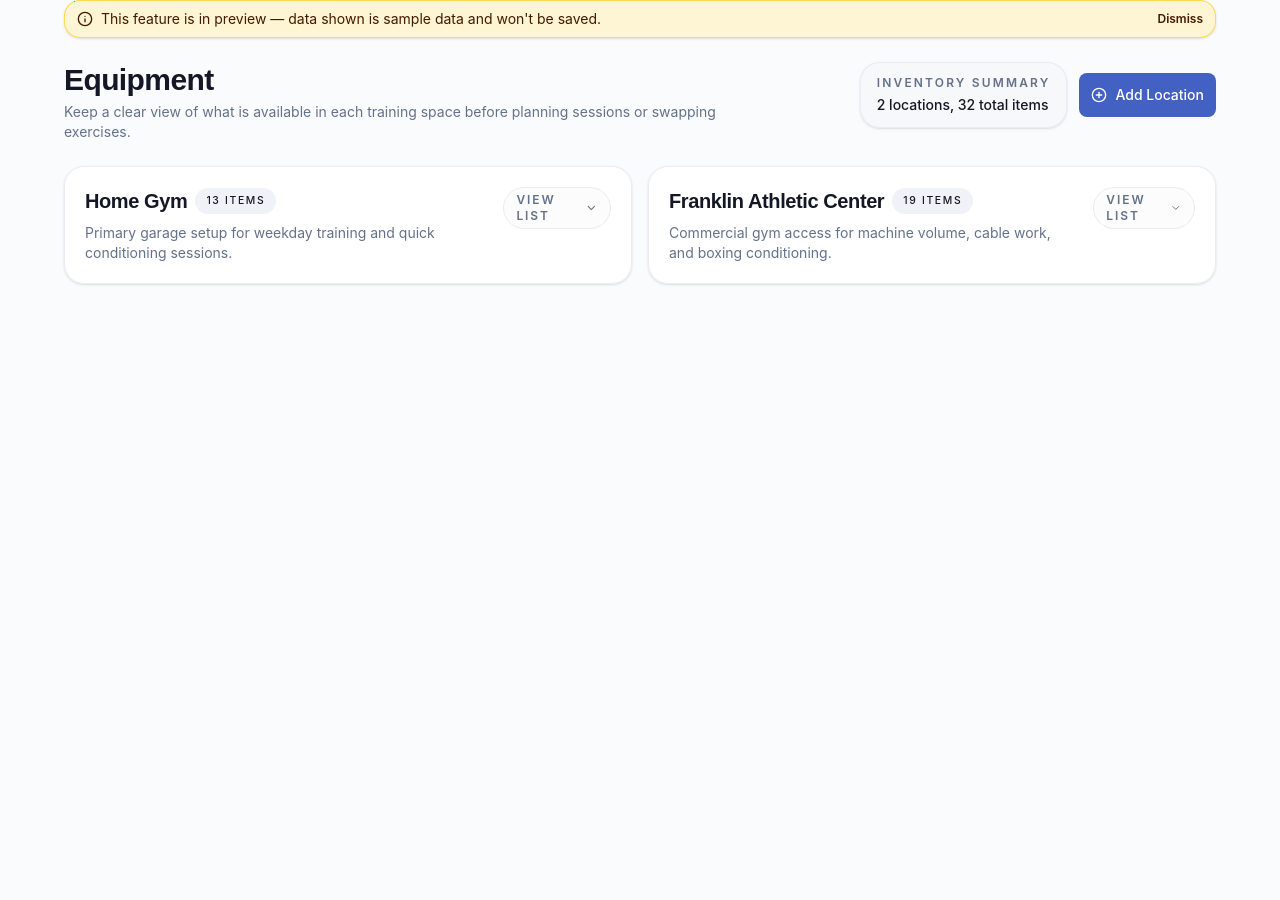
Scenario: EquipmentRoutePage › confirms before removing an equipment item and updates local state
Click the button "Home Gym": [348, 225] box top-left (65, 167), bottom-right (631, 283)
(page scrolled)
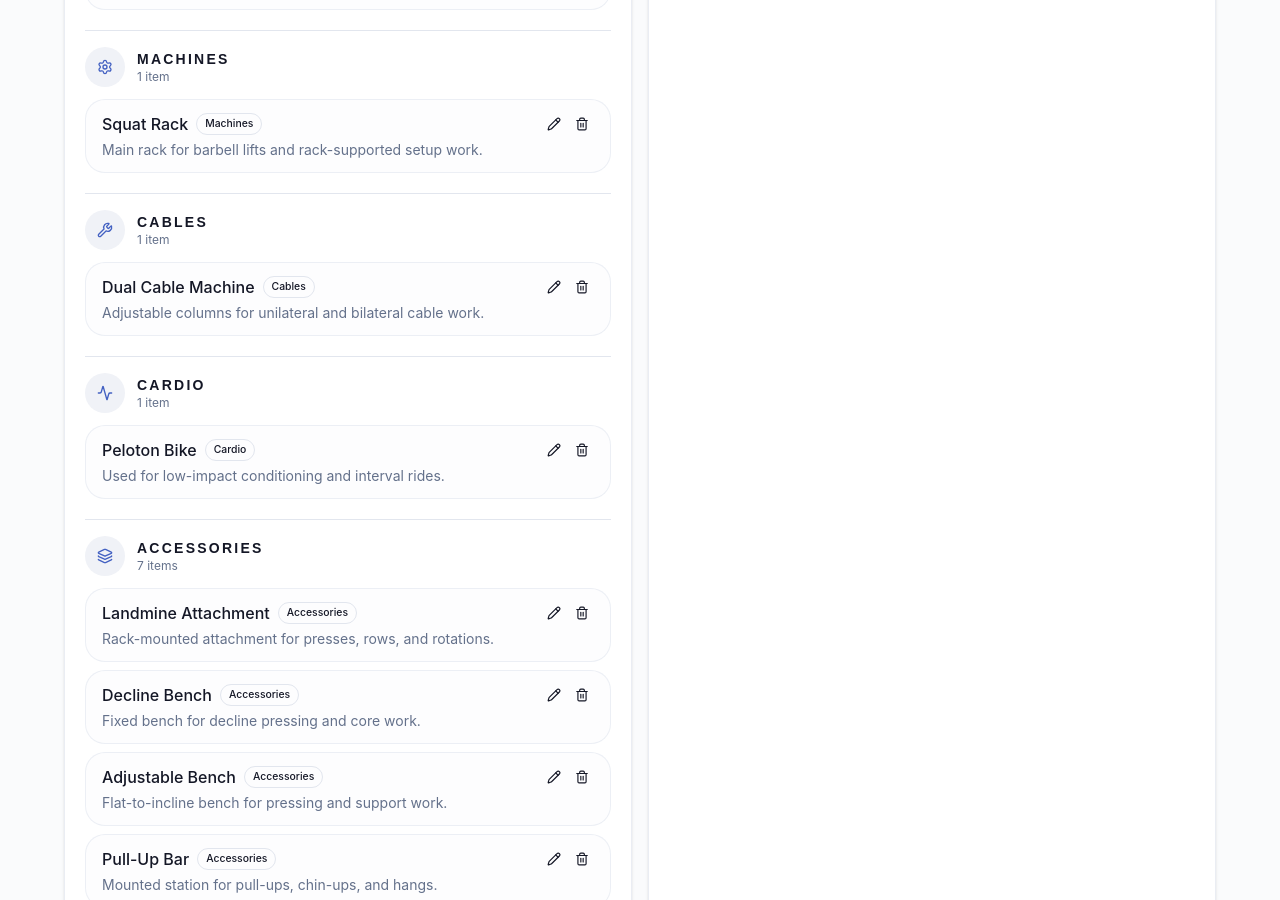
Click the button named "Remove Peloton Bike": [582, 450] box top-left (570, 438), bottom-right (594, 462)
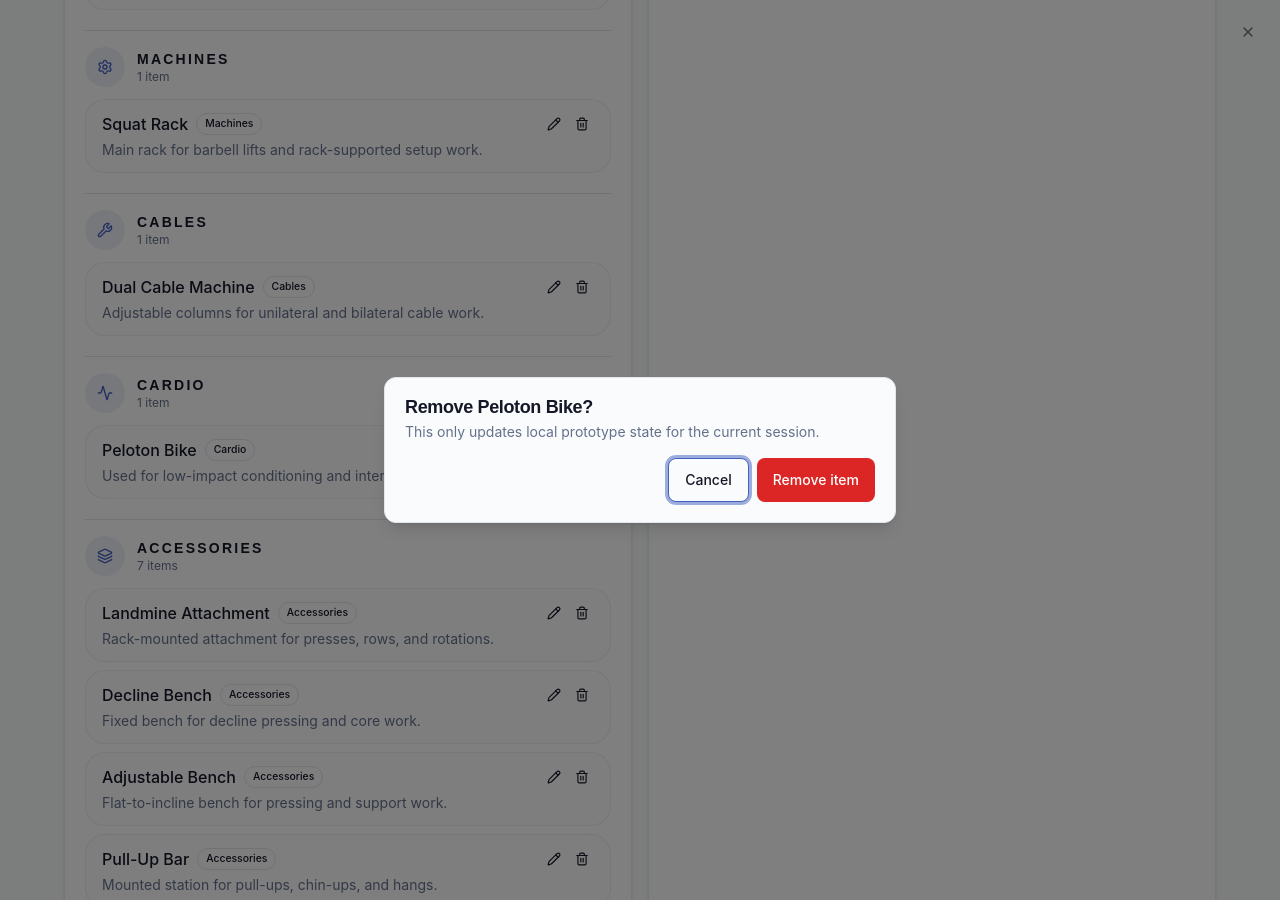
expect the heading "Remove Peloton Bike?" is shown: met, box top-left (405, 397), bottom-right (593, 417)
Click the button "Remove item": [816, 480] box top-left (757, 458), bottom-right (875, 502)
(page scrolled)
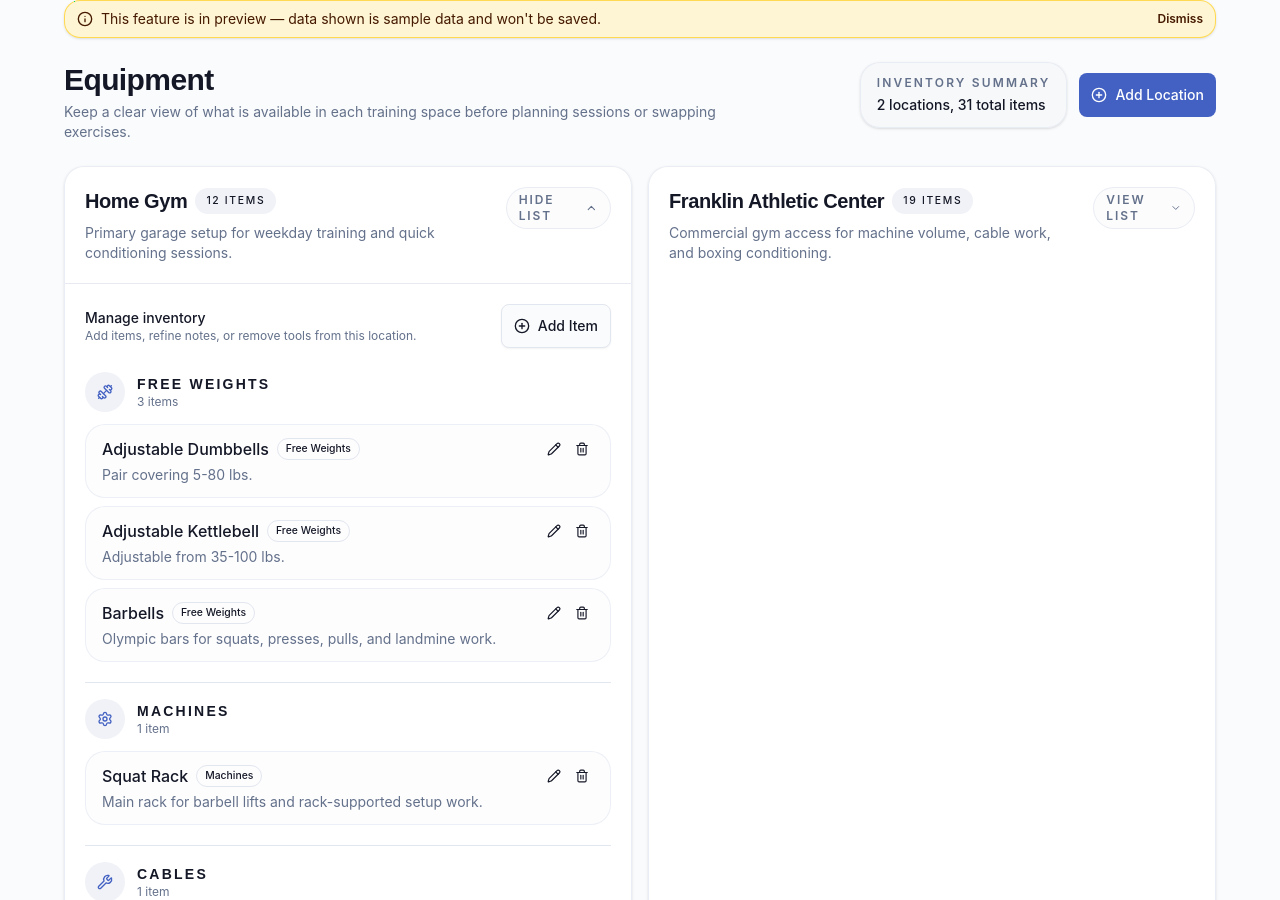
expect the text "2 locations, 31 total items" is shown: met, box top-left (877, 95), bottom-right (1050, 115)
expect the text "Peloton Bike" is gone: met
